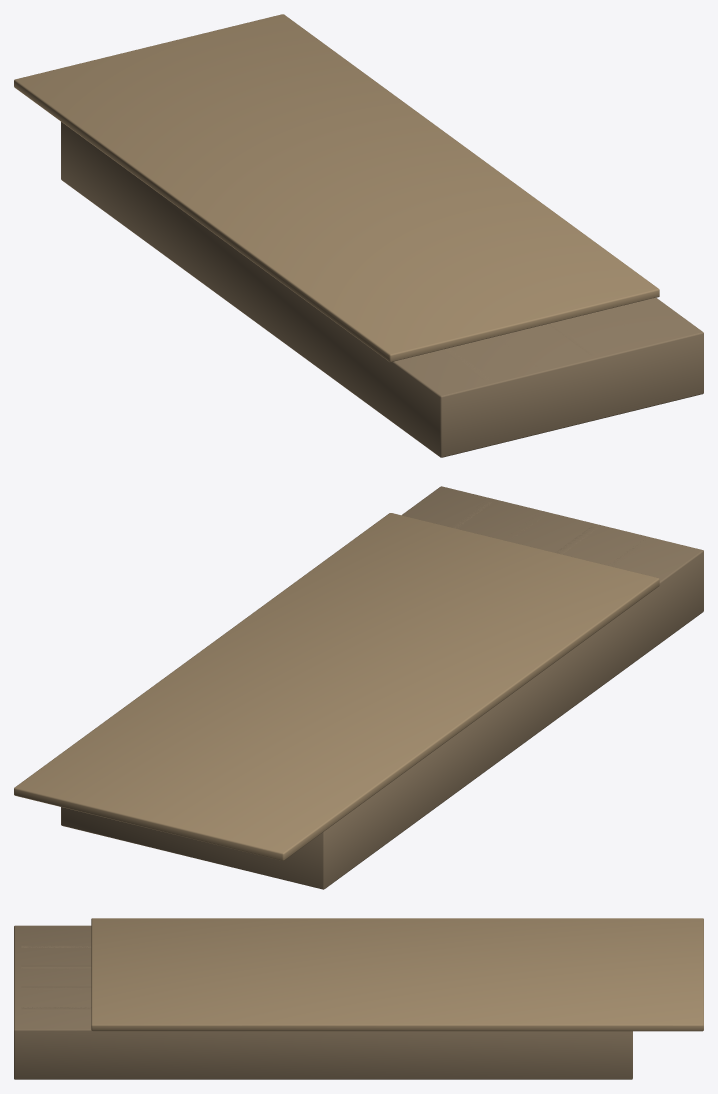
Rendered from SM_CoreBox_1979.glb.
3 renders of one model, top to bottom at view 1: azimuth 30°, elevation 25°; view 2: azimuth 150°, elevation 25°; view 3: azimuth 270°, elevation 25°, orthographic. The views are drawn at different scales.
Parts seen in each view (by area): view 1: Lid_Plywood, SM_CoreBox_1979; view 2: Lid_Plywood, SM_CoreBox_1979; view 3: Lid_Plywood, SM_CoreBox_1979.
Part boxes in pixels (left/top/right/bottom): Lid_Plywood: left=14, top=14, right=659, bottom=362; SM_CoreBox_1979: left=61, top=122, right=703, bottom=457; Lid_Plywood: left=14, top=513, right=659, bottom=860; SM_CoreBox_1979: left=61, top=486, right=703, bottom=889; Lid_Plywood: left=91, top=918, right=703, bottom=1031; SM_CoreBox_1979: left=14, top=925, right=632, bottom=1079.
Bounding box in the file's own units: 0.41 × 0.101 × 1.12.
